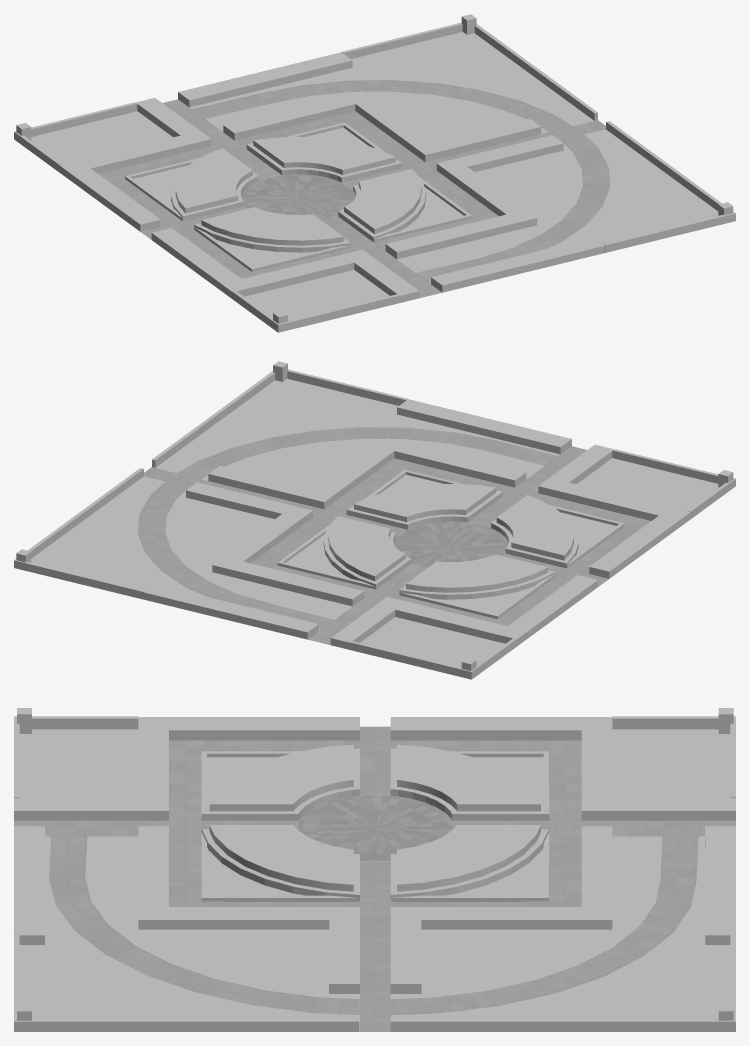
Rendered from tile_poi_park_6x6_a_2.fbx.
3 views of the same model, one above another, from view 1: azimuth 30°, elevation 25°; view 2: azimuth 150°, elevation 25°; view 3: azimuth 270°, elevation 25° (orthographic). The views are drawn at different scales.
Parts seen in each view (by area): view 1: tile_park_6x6_a_2; view 2: tile_park_6x6_a_2; view 3: tile_park_6x6_a_2.
Boxes of the visible parts, x1,y1,x2,y2 form: tile_park_6x6_a_2: [14, 14, 735, 332]; tile_park_6x6_a_2: [14, 361, 735, 679]; tile_park_6x6_a_2: [14, 708, 735, 1031].
Size of the model in its own units: 9600 by 290 by 9600.
